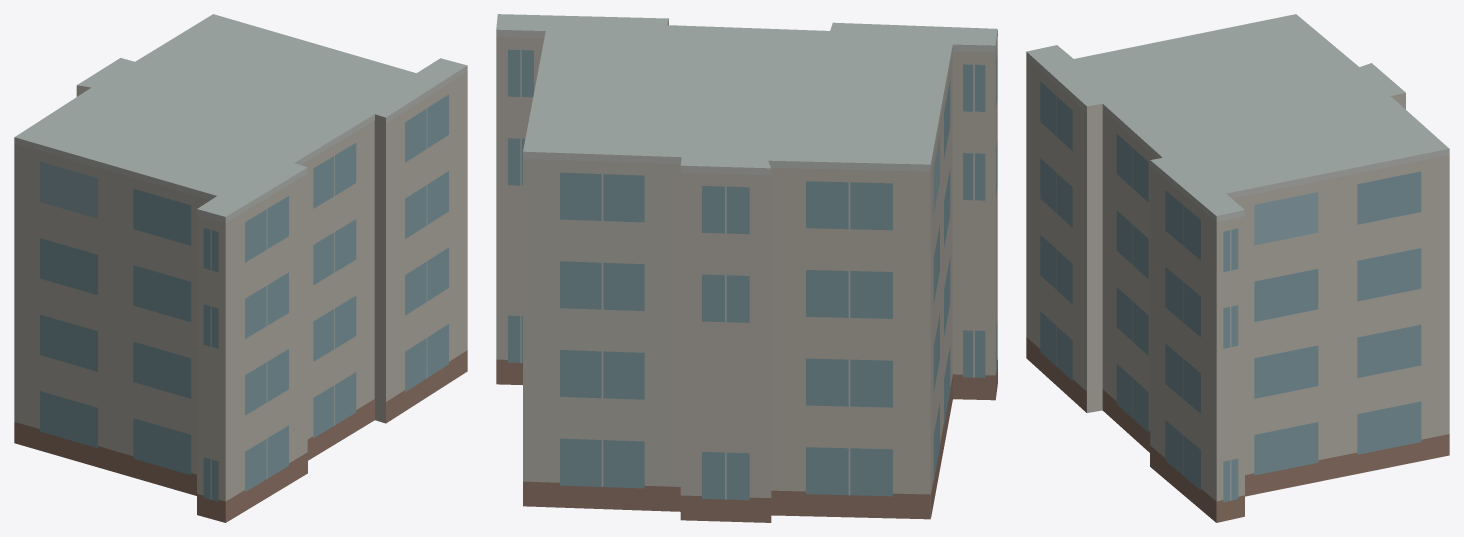
File: survey-upis-32745162.glb
3 renders of one model, left to right at view 1: azimuth 30°, elevation 25°; view 2: azimuth 150°, elevation 25°; view 3: azimuth 270°, elevation 25°, orthographic. The views are drawn at different scales.
Parts seen in each view (by area): view 1: survey-upis-32745162.tmp; view 2: survey-upis-32745162.tmp; view 3: survey-upis-32745162.tmp.
Boxes of the visible parts, x1=… form: survey-upis-32745162.tmp: x1=14, y1=14, x2=467, y2=522; survey-upis-32745162.tmp: x1=496, y1=14, x2=997, y2=522; survey-upis-32745162.tmp: x1=1026, y1=14, x2=1449, y2=522.
Size of the model in its own units: 17.26 by 12.2 by 15.26.
